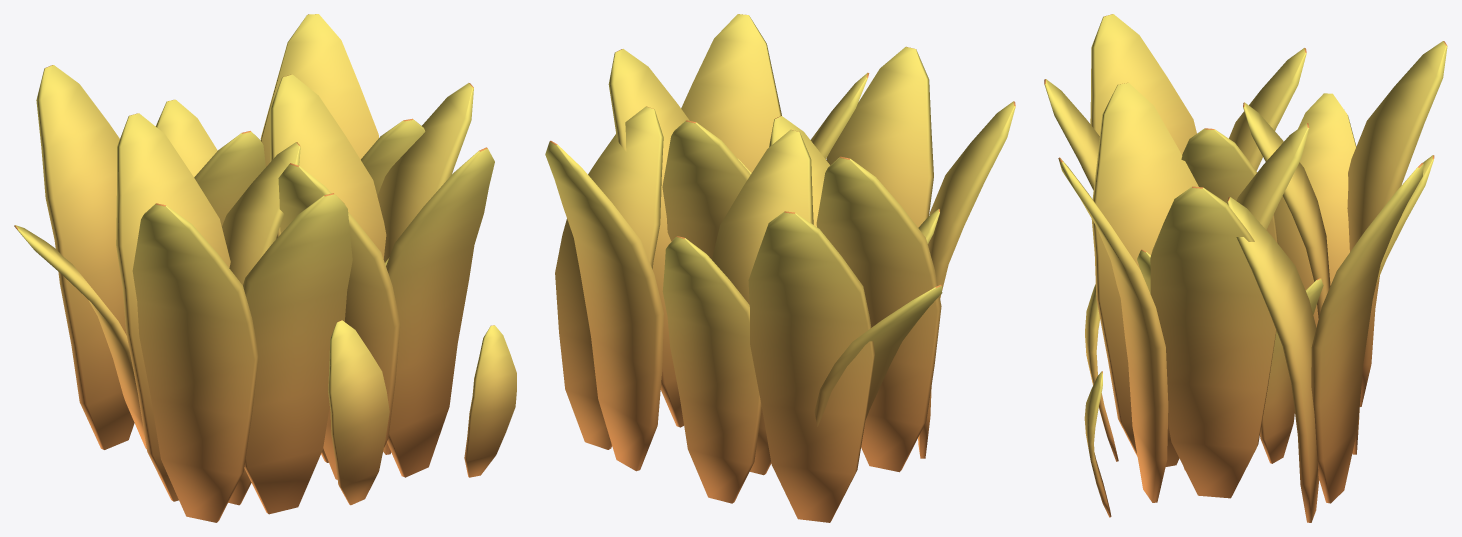
The model's file is Grass004.fbx.
The picture shows the model from 3 angles, left to right: view 1: azimuth 30°, elevation 25°; view 2: azimuth 150°, elevation 25°; view 3: azimuth 270°, elevation 25°; orthographic projection.
Parts seen in each view (by area): view 1: Grass004; view 2: Grass004; view 3: Grass004.
Part boxes in pixels (x1,y1,x2,y2): Grass004: (14, 14, 516, 522); Grass004: (545, 14, 1015, 522); Grass004: (1044, 14, 1447, 522).
Size of the model in its own units: 176 by 147 by 154.
